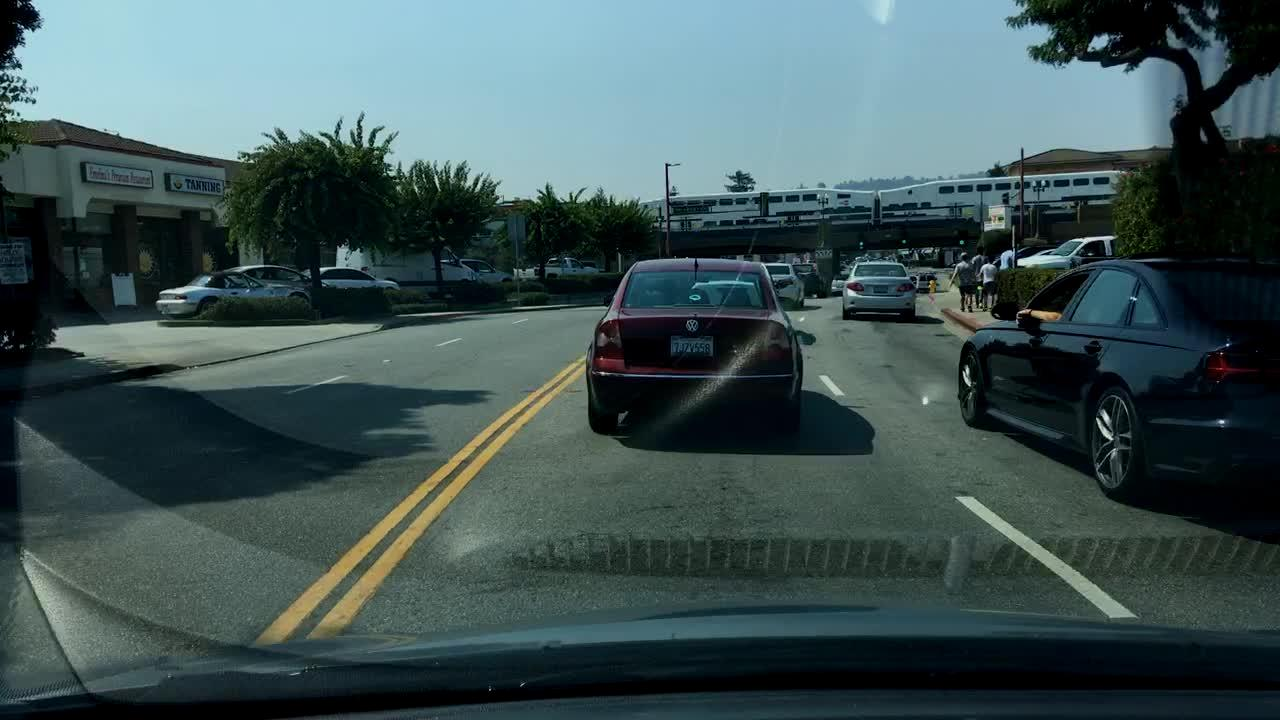Volkswagen: (682, 316, 704, 337)
